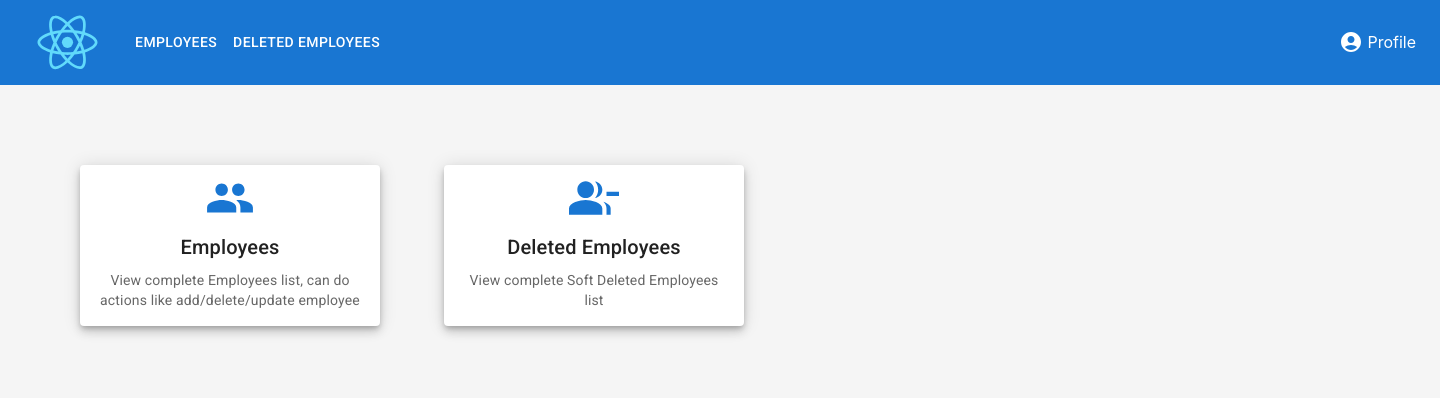
Test case: Testing UI elemnts from APP level › Testing Soft Deleted Employee table rendered when delete employee button clicked on navbar
This screenshot has width=1440, height=398.
Click the link with test id "nav-to-delEmployees": [307, 42] box x1=233 y1=34 x2=380 y2=50
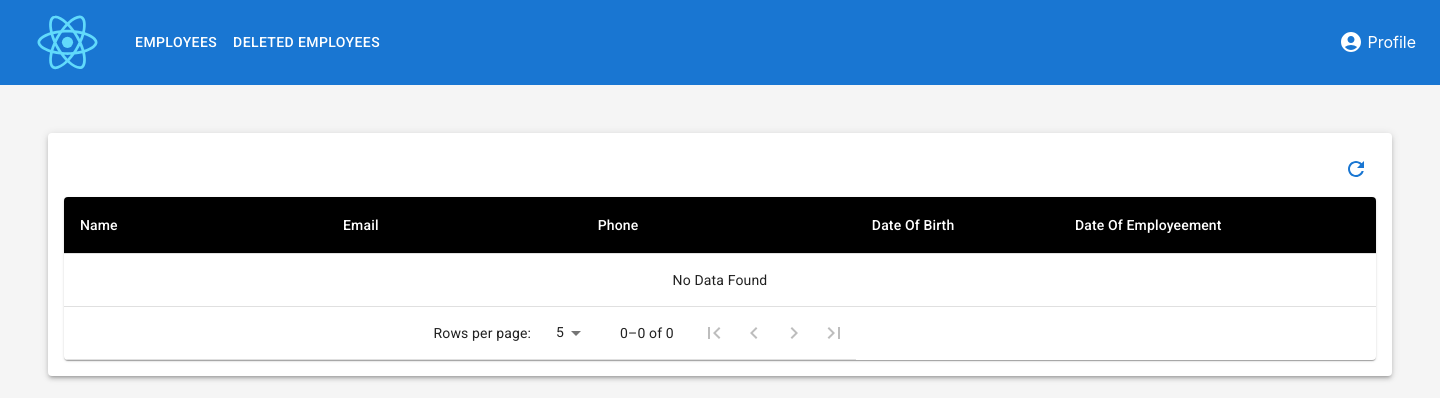
Result: the element with test id "del-emp-div" is shown at x1=48 y1=133 x2=1392 y2=376
